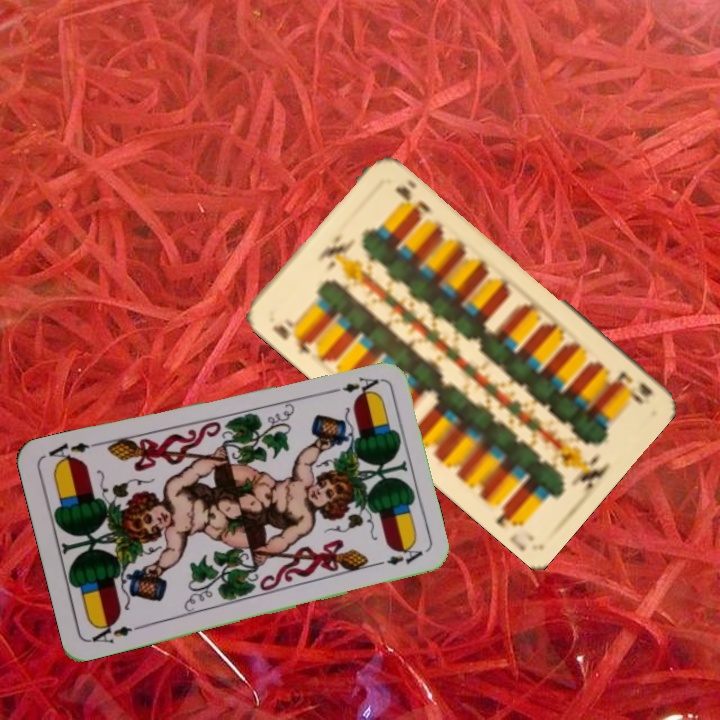E10: (268, 314, 317, 357), (610, 368, 656, 407)
EA: (86, 617, 144, 646), (323, 372, 382, 397)
